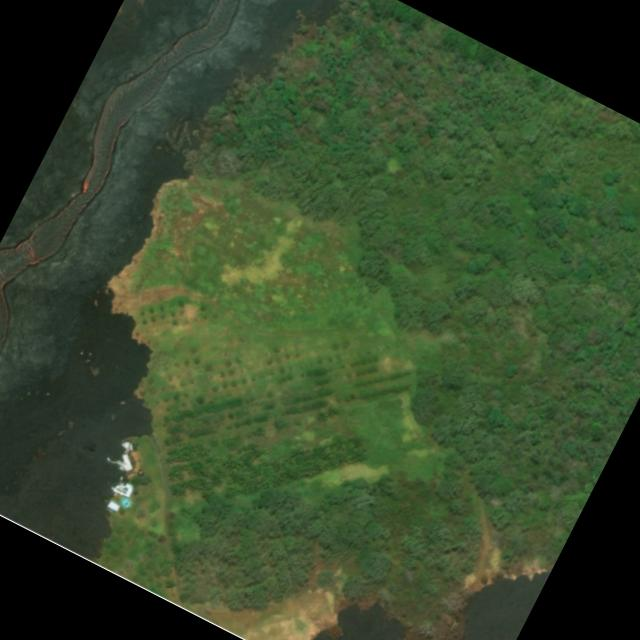damage: (107, 442, 136, 474), (94, 492, 124, 519), (112, 475, 136, 497), (119, 496, 132, 509)
